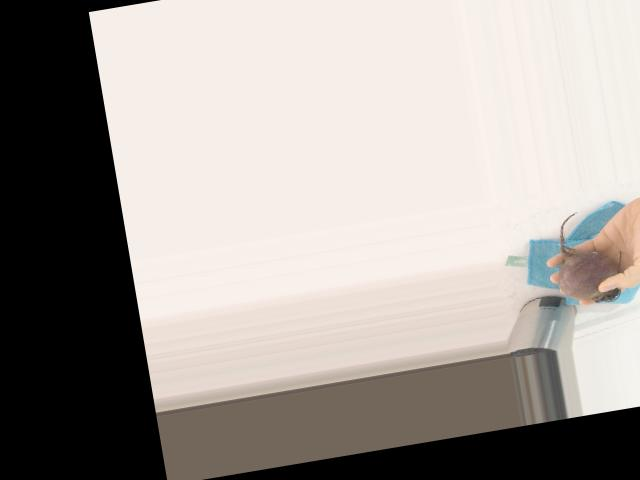beet: (546, 206, 628, 309)
